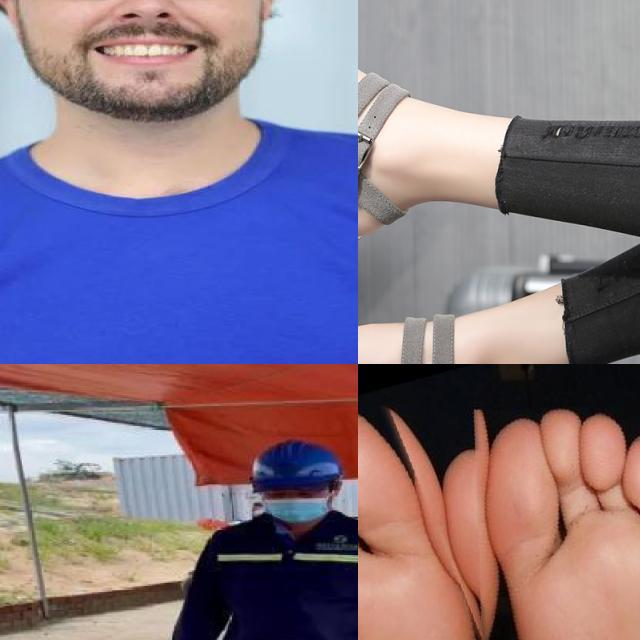Barefoots: (493, 385, 640, 640), (358, 438, 490, 640)
No_Ear-Protection: (0, 0, 287, 105)
Sandals: (358, 0, 517, 364)
face_mask: (257, 485, 330, 522)
head_helmet: (248, 441, 345, 488)
person: (170, 436, 358, 640)
